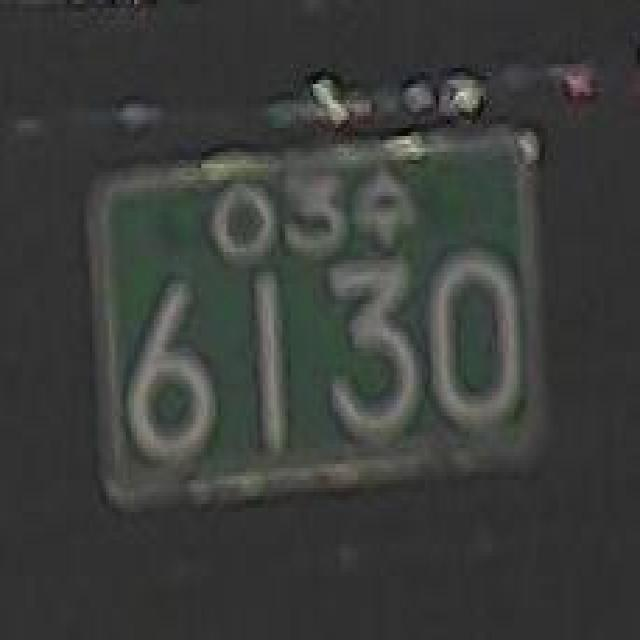illegal_plate: (76, 84, 553, 544)
